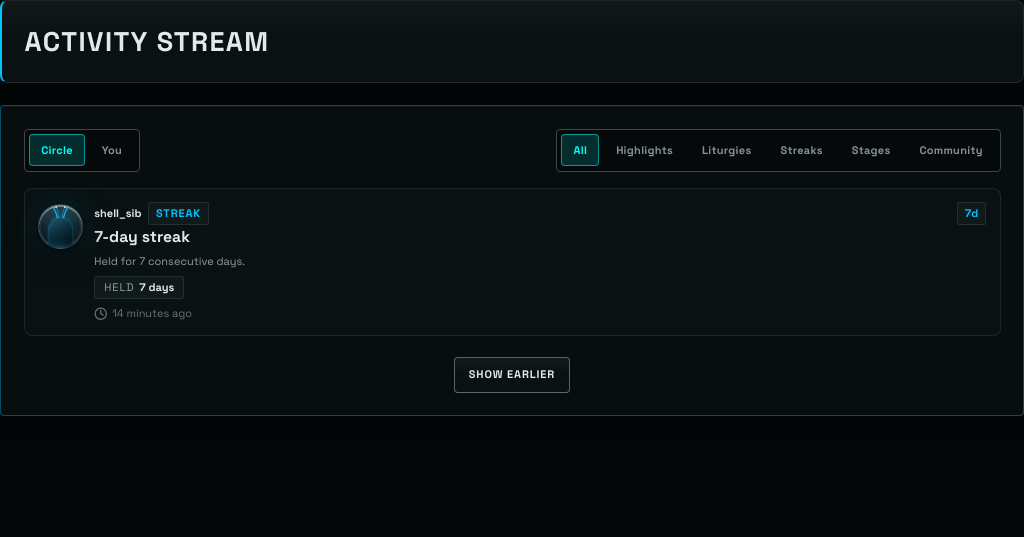
ActivityStreamPage › loads an earlier page when a cursor is present
Click the button "Show earlier" at (512, 374), box [454, 356, 570, 392]
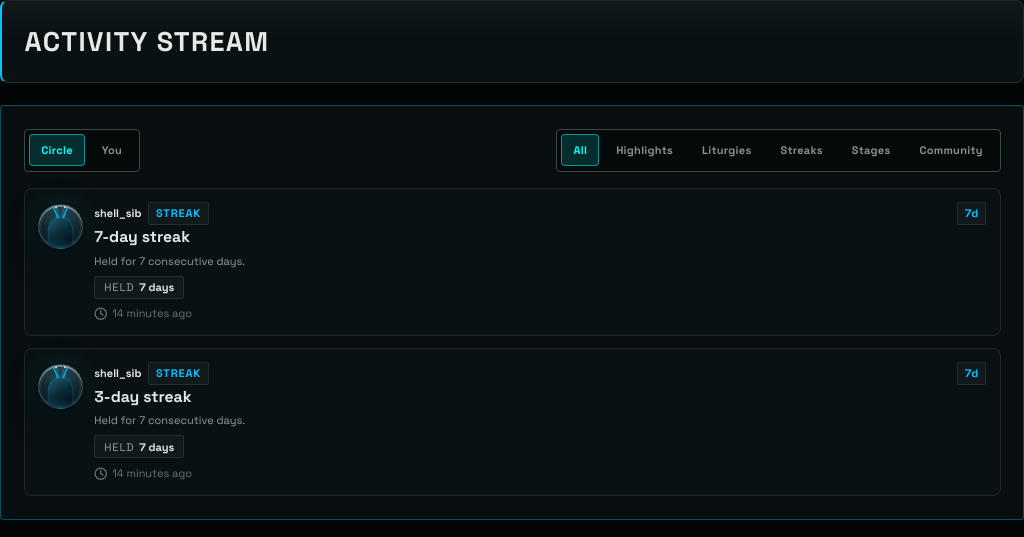
Check: the heading "3-day streak" is shown, box [94, 387, 192, 407]
